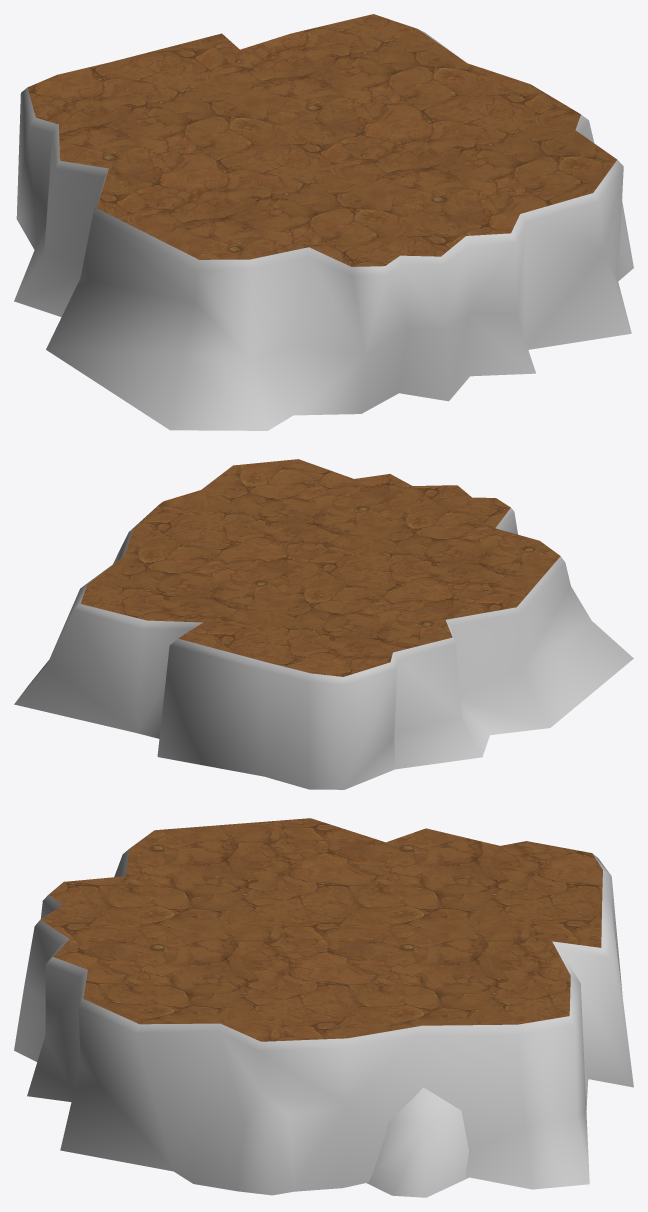
File: ZZ_Stone5.FBX
The picture shows the model from 3 angles, top to bottom: view 1: azimuth 30°, elevation 25°; view 2: azimuth 150°, elevation 25°; view 3: azimuth 270°, elevation 25°; orthographic projection. The views are drawn at different scales.
Parts seen in each view (by area): view 1: Object01, Object03; view 2: Object01, Object03; view 3: Object01, Object03.
Part boxes in pixels (box(x1,y1,x2,y2)): Object01: box(14, 29, 633, 430); Object03: box(27, 14, 617, 266); Object01: box(14, 503, 633, 789); Object03: box(80, 459, 560, 676); Object01: box(14, 849, 633, 1197); Object03: box(40, 818, 602, 1041).
Bounding box in the file's own units: 67.65 × 66.13 × 16.62.
